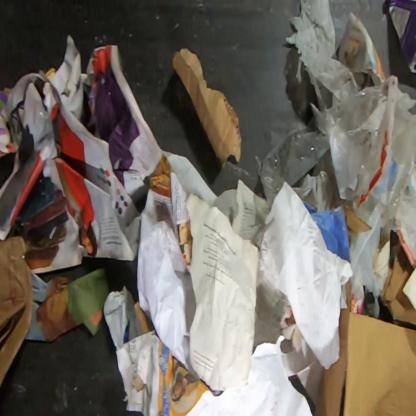cardboard: (309, 307, 415, 415), (171, 47, 243, 169), (0, 235, 34, 391), (378, 247, 415, 329), (387, 0, 415, 77), (343, 204, 371, 235)
soft_plastic: (285, 0, 415, 232), (260, 113, 330, 214)
